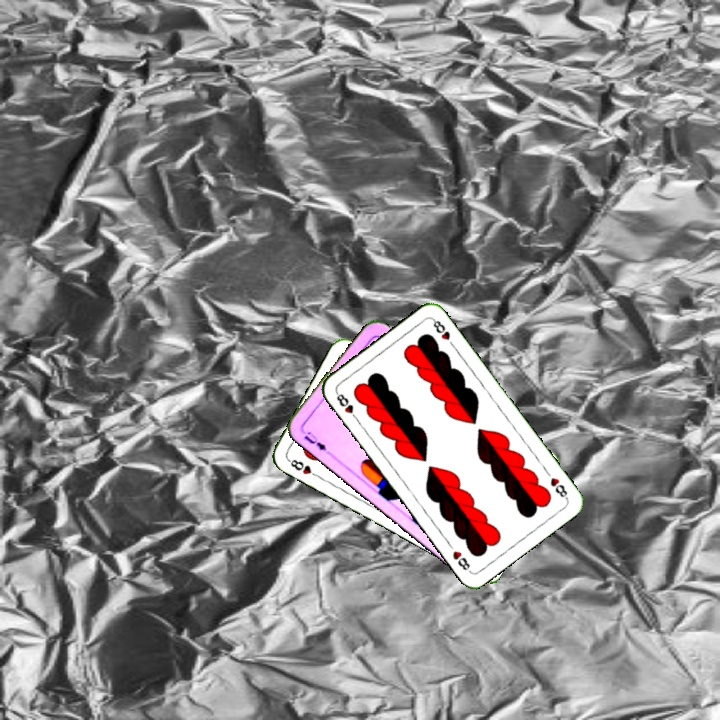EU: (298, 426, 334, 456)
H8: (332, 388, 361, 423), (284, 455, 322, 480), (546, 473, 570, 502)
